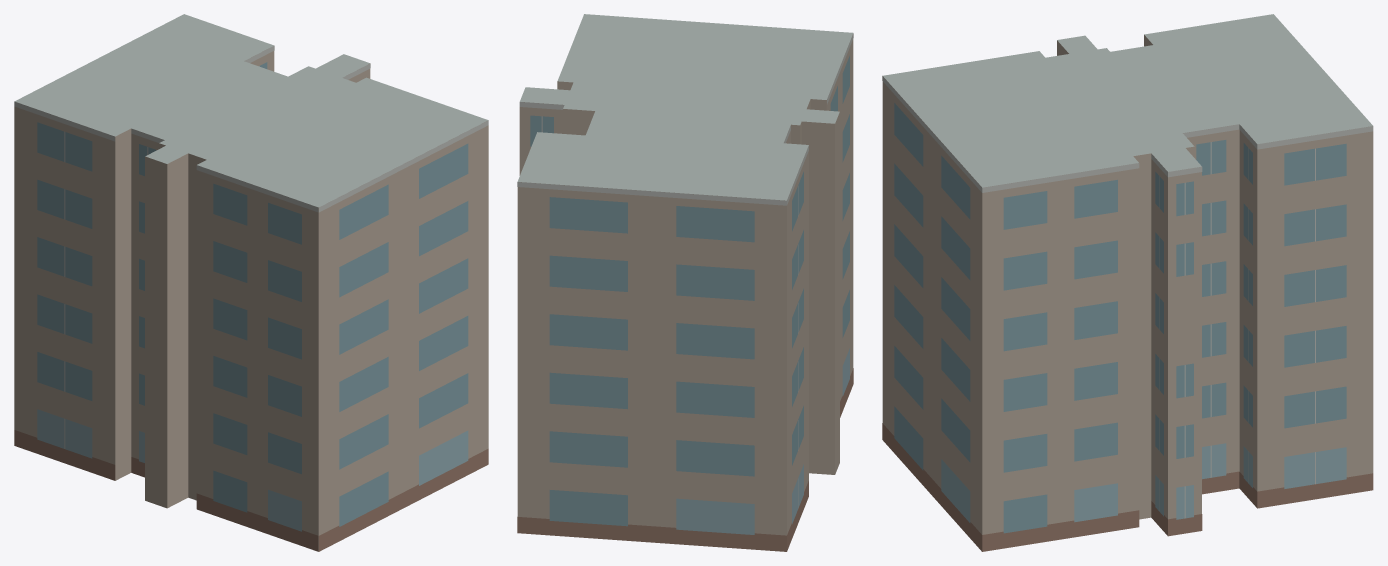
File: survey-upis-33002162.glb
3 views of the same model, side by side, from view 1: azimuth 30°, elevation 25°; view 2: azimuth 150°, elevation 25°; view 3: azimuth 270°, elevation 25° (orthographic). The views are drawn at different scales.
Parts seen in each view (by area): view 1: survey-upis-33002162.tmp; view 2: survey-upis-33002162.tmp; view 3: survey-upis-33002162.tmp.
Boxes of the visible parts, left/top/right/bottom form: survey-upis-33002162.tmp: left=14, top=14, right=488, bottom=551; survey-upis-33002162.tmp: left=517, top=14, right=853, bottom=551; survey-upis-33002162.tmp: left=882, top=14, right=1373, bottom=551.
Bounding box in the file's own units: 16.98 × 16.6 × 20.28.
